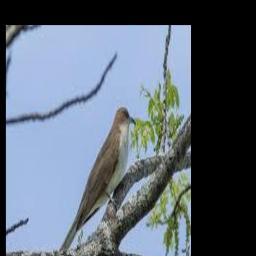Cuckoo: (59, 107, 136, 252)
